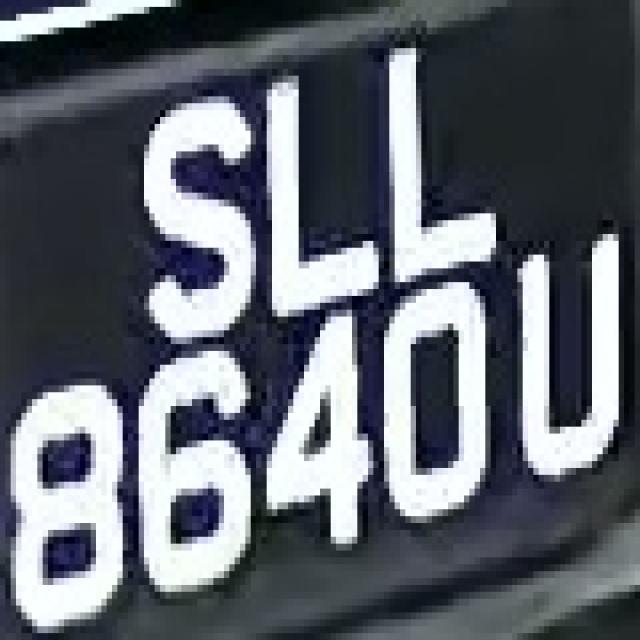0: (368, 275, 501, 537)
4: (250, 303, 378, 557)
6: (112, 324, 251, 606)
8: (0, 4, 1, 7)
L: (373, 35, 518, 282), (250, 48, 378, 303)
S: (117, 76, 256, 337)
U: (506, 220, 634, 489)
